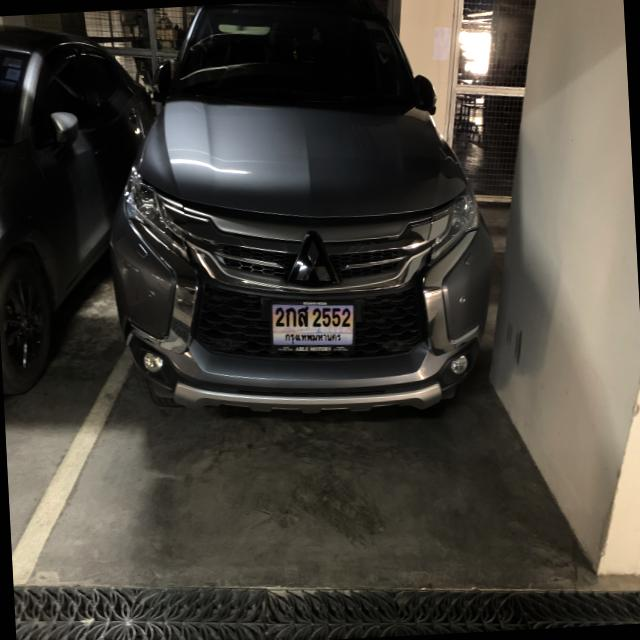license_plate: (267, 296, 362, 356)
